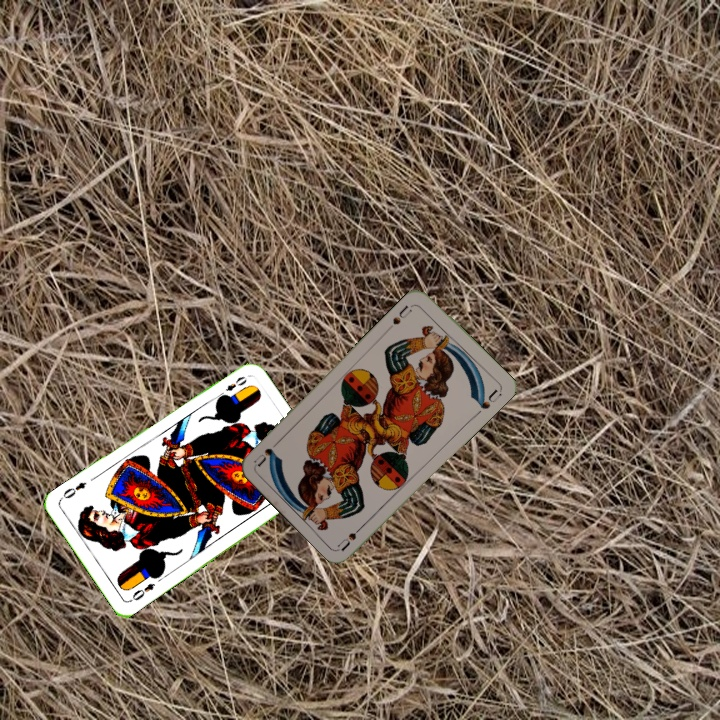EO: (214, 372, 250, 400), (126, 579, 158, 605)
SU: (334, 519, 368, 553), (385, 300, 417, 332)
